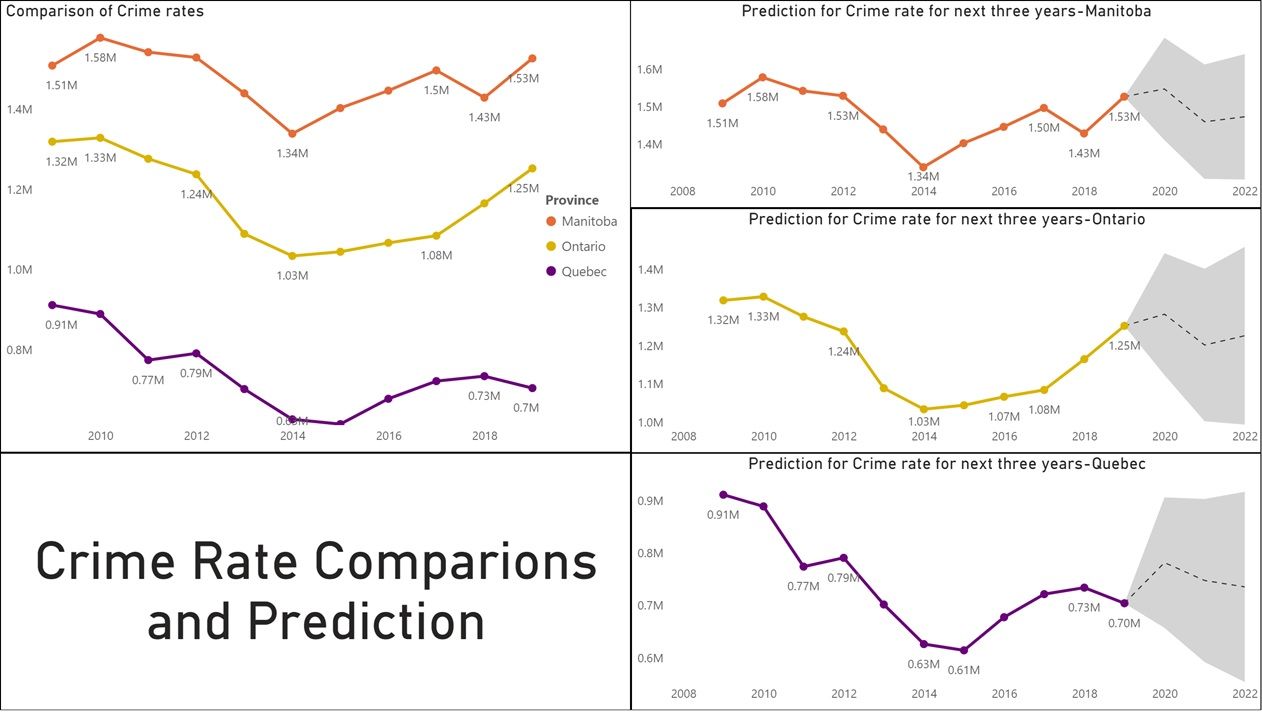

Layout of this report page (visuals, bound fields, positions):
{"tool":"powerbi","page":{"name":"Forecast","canvas":[1280,720],"ordinal":4},"visuals":[{"type":"lineChart","title":"Prediction for Crime rate for next three years-Ontario","fields":{"Category":["MB-ON-QB.REF_DATE"],"Y":["Sum(MB-ON-QB.Rate per 100,000 population)"]},"box":[640.3,210.8,639.3,248.4],"z":0},{"type":"lineChart","title":"Prediction for Crime rate for next three years-Manitoba","fields":{"Category":["MB-ON-QB.REF_DATE"],"Y":["Sum(MB-ON-QB.Rate per 100,000 population)"]},"box":[639.3,0,640.3,210.8],"z":1},{"type":"lineChart","title":"Prediction for Crime rate for next three years-Quebec","fields":{"Category":["MB-ON-QB.REF_DATE"],"Y":["Sum(MB-ON-QB.Rate per 100,000 population)"]},"box":[640.3,459.2,639.3,261.3],"z":2},{"type":"lineChart","title":"Comparison of Crime rates","fields":{"Y":["Sum(MB-ON-QB.Rate per 100,000 population)"],"Category":["MB-ON-QB.REF_DATE"],"Series":["MB-ON-QB.Province"]},"box":[0,0,640,459.1],"z":3},{"type":"card","fields":{"Values":["MB-ON-QB.crime rate"]},"box":[0,459.1,640,261.6],"z":4}]}

Visuals, with their boxes in screenshot pixels (x1, y1, x2, y2), scaled from the page's 1280x720 canvas onto the 1262x720 screenshot:
"Prediction for Crime rate for next three years-Ontario" lineChart: <region>631, 211, 1261, 459</region>
"Prediction for Crime rate for next three years-Manitoba" lineChart: <region>630, 0, 1261, 211</region>
"Prediction for Crime rate for next three years-Quebec" lineChart: <region>631, 459, 1261, 719</region>
"Comparison of Crime rates" lineChart: <region>0, 0, 631, 459</region>
card - MB-ON-QB.crime rate: <region>0, 459, 631, 719</region>
